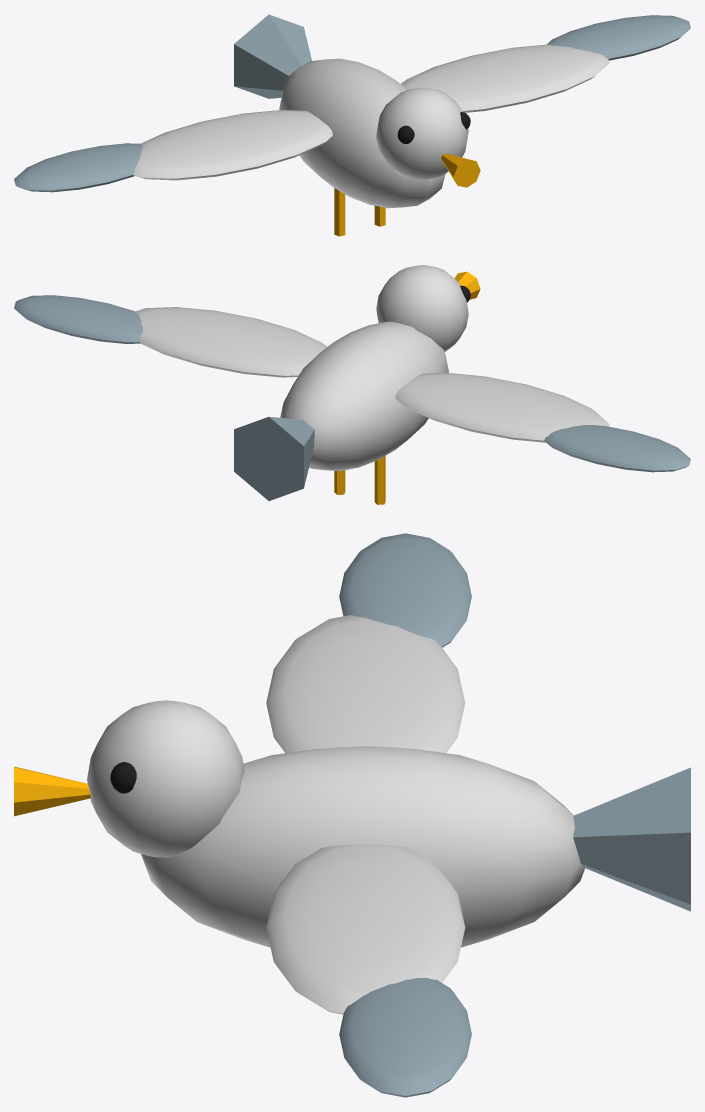
File: journey_seagull.glb
3 views of the same model, one above another, from view 1: azimuth 30°, elevation 25°; view 2: azimuth 150°, elevation 25°; view 3: azimuth 270°, elevation 25° (orthographic). The views are drawn at different scales.
Parts seen in each view (by area): view 1: Body, Wing_R, Wing_L; view 2: Body, Wing_R, Wing_L; view 3: Body, Wing_L, Wing_R.
Part boxes in pixels (x1,y1,x2,y2): Body: (234, 14, 480, 236); Wing_R: (14, 110, 332, 192); Wing_L: (401, 15, 690, 112); Body: (234, 265, 480, 504); Wing_R: (395, 372, 690, 472); Wing_L: (14, 295, 326, 377); Body: (14, 700, 690, 947); Wing_L: (266, 844, 471, 1097); Wing_R: (266, 533, 471, 753).
Bounding box in the file's own units: 2 × 0.52 × 1.02.
